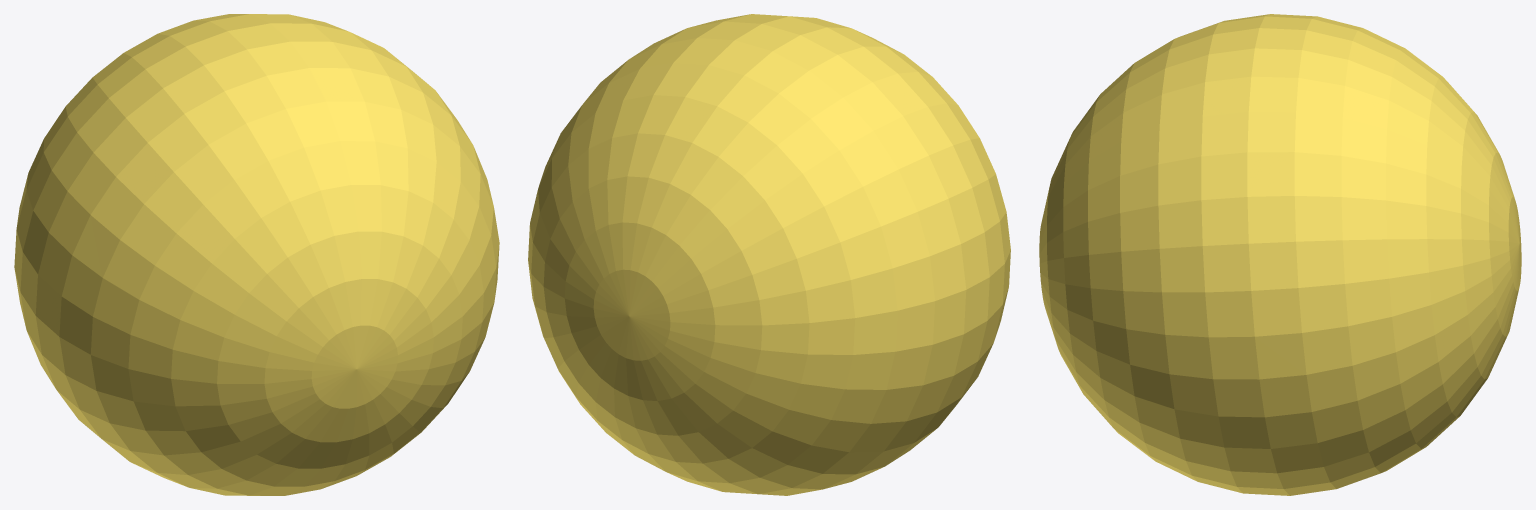
Rendered from stewart_platform_downArm1Tip_vis_1.dae.
The picture shows the model from 3 angles, left to right: view 1: azimuth 30°, elevation 25°; view 2: azimuth 150°, elevation 25°; view 3: azimuth 270°, elevation 25°; orthographic projection.
Parts seen in each view (by area): view 1: Node_0x7f035024adc0; view 2: Node_0x7f035024adc0; view 3: Node_0x7f035024adc0.
Part boxes in pixels (bbox=[...]): Node_0x7f035024adc0: bbox=[14, 14, 499, 495]; Node_0x7f035024adc0: bbox=[528, 14, 1010, 495]; Node_0x7f035024adc0: bbox=[1039, 14, 1521, 495].
Bounding box in the file's own units: 0.0594 × 0.0595 × 0.0599.
